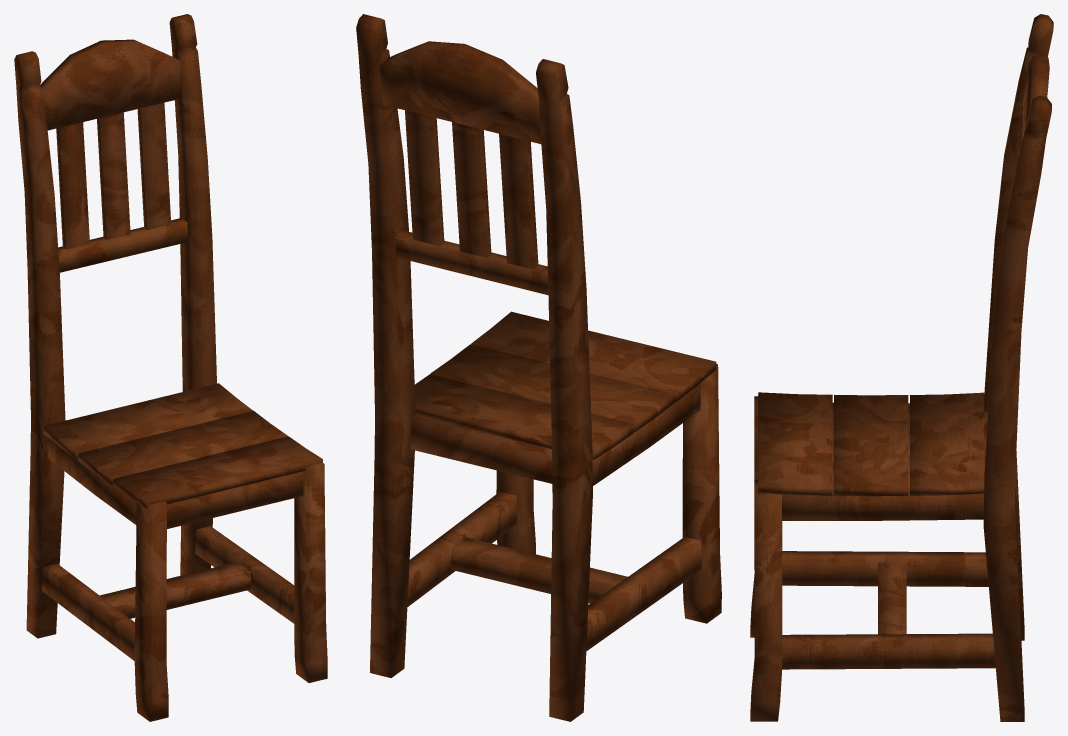
Rendered from chair.fbx.
3 views of the same model, side by side, from view 1: azimuth 30°, elevation 25°; view 2: azimuth 150°, elevation 25°; view 3: azimuth 270°, elevation 25° (orthographic). The views are drawn at different scales.
Parts seen in each view (by area): view 1: Chair_BAKED; view 2: Chair_BAKED; view 3: Chair_BAKED.
Part boxes in pixels (x1,y1,x2,y2): Chair_BAKED: (14, 14, 327, 721); Chair_BAKED: (356, 14, 721, 721); Chair_BAKED: (750, 14, 1053, 721).
Size of the model in its own units: 33.45 by 102 by 45.23.
